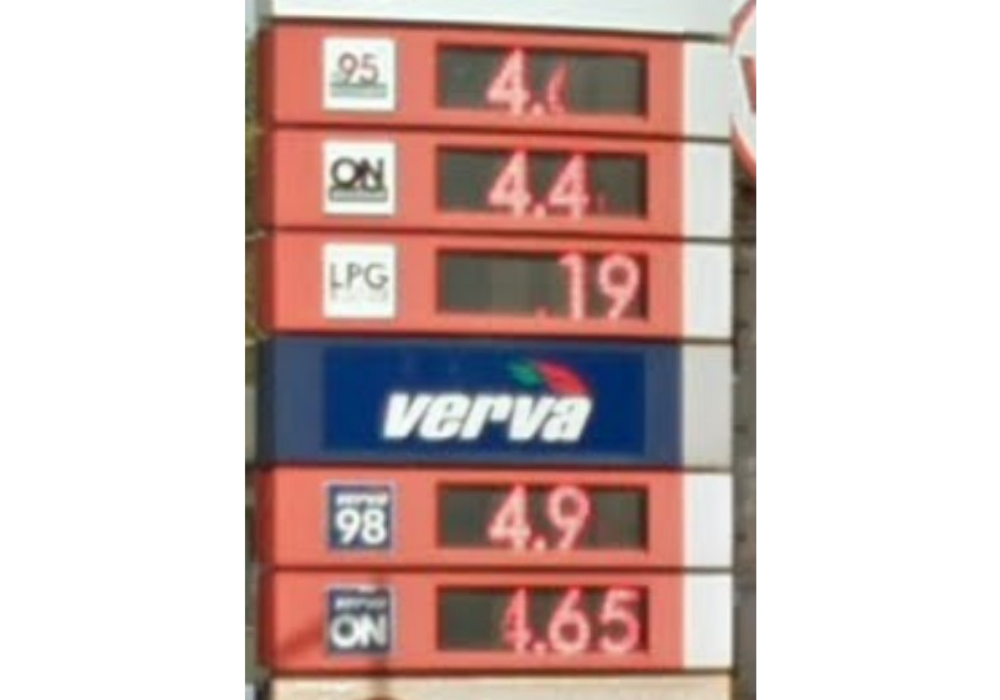LPG: (319, 237, 397, 323)
ON: (321, 135, 398, 217), (322, 581, 396, 656)
PB95: (322, 37, 401, 117)
PB98: (321, 479, 395, 554)
